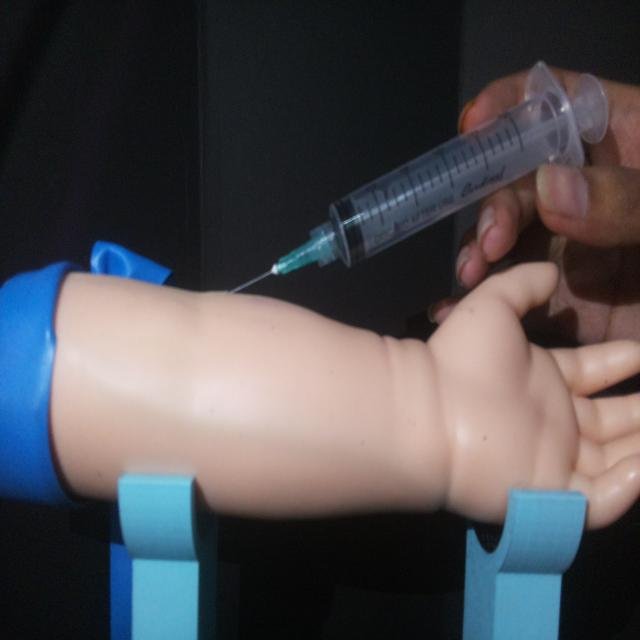23deg: (222, 59, 612, 298)
